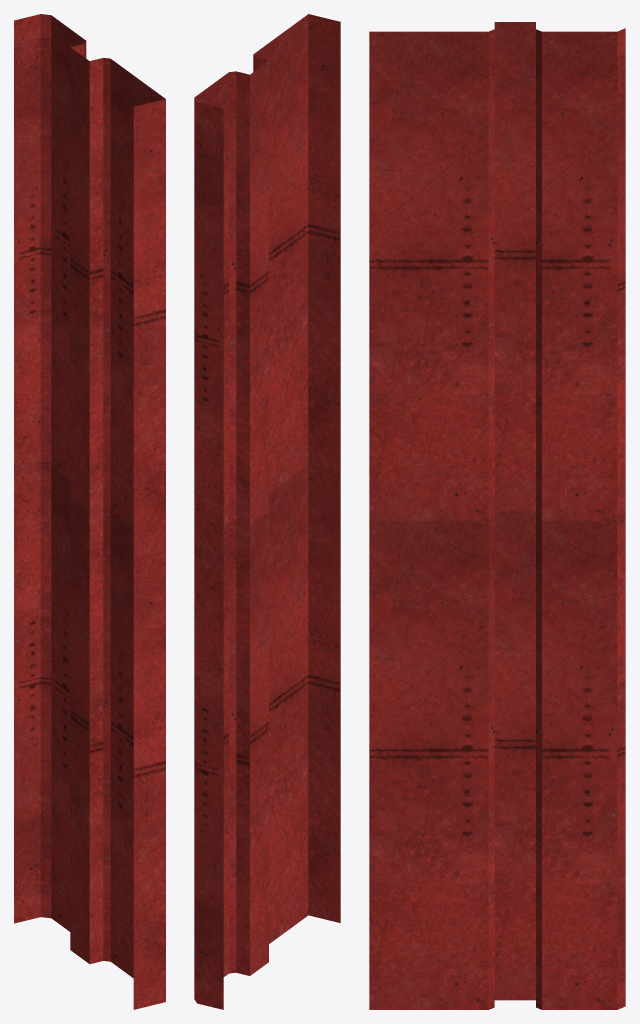
The model's file is Ob_StationSupportDetail_RC.fbx.
The picture shows the model from 3 angles, left to right: view 1: azimuth 30°, elevation 25°; view 2: azimuth 150°, elevation 25°; view 3: azimuth 270°, elevation 25°; orthographic projection. The views are drawn at different scales.
Parts seen in each view (by area): view 1: Ob_StationSupportDetail_RC; view 2: Ob_StationSupportDetail_RC; view 3: Ob_StationSupportDetail_RC.
Part boxes in pixels (x1=…): Ob_StationSupportDetail_RC: x1=14, y1=14, x2=165, y2=1009; Ob_StationSupportDetail_RC: x1=194, y1=14, x2=340, y2=1009; Ob_StationSupportDetail_RC: x1=369, y1=22, x2=625, y2=1009.
Bounding box in the file's own units: 135 × 3482 × 827.
